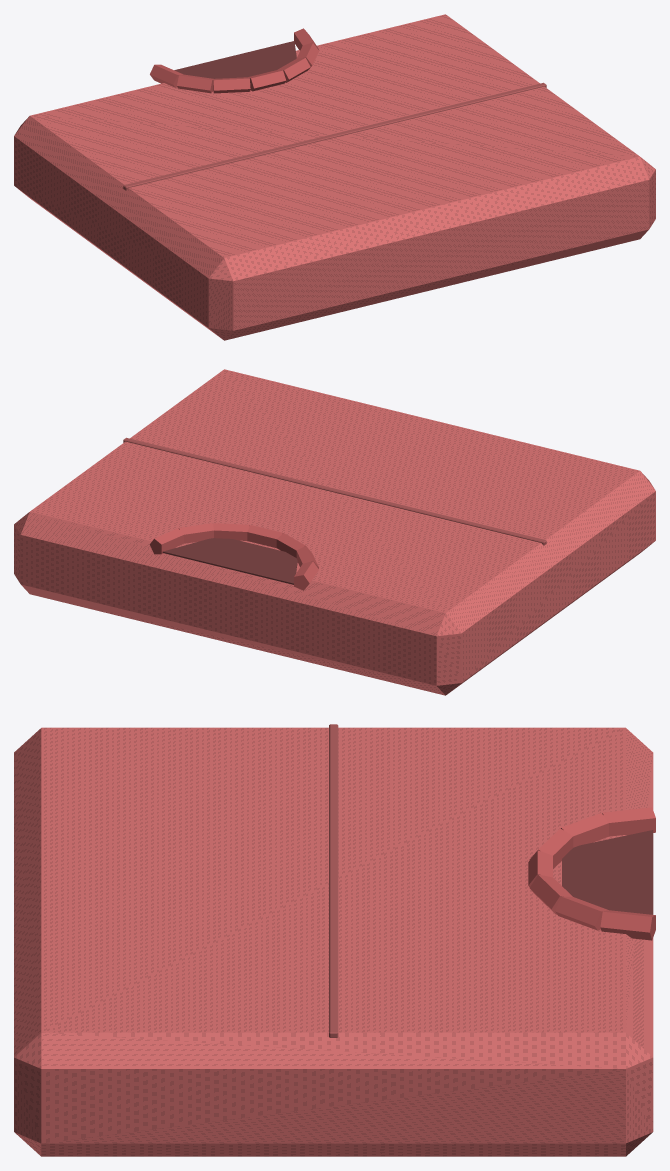
The model's file is sweatshirt.glb.
3 renders of one model, top to bottom at view 1: azimuth 30°, elevation 25°; view 2: azimuth 150°, elevation 25°; view 3: azimuth 270°, elevation 25°, orthographic. The views are drawn at different scales.
Visible parts, largest first — view 1: block_body, block_neckhole, block_fold, block_neck4, block_neck5, block_neck3, block_neck6; view 2: block_body, block_neckhole, block_fold, block_neck0, block_neck2, block_neck3, block_neck1; view 3: block_body, block_neckhole, block_fold, block_neck0, block_neck6, block_neck1, block_neck5, block_neck2, block_neck4, block_neck3.
Boxes of the visible parts, x1=… form: block_body: x1=14, y1=14, x2=655, y2=340; block_neckhole: x1=174, y1=41, x2=296, y2=78; block_fold: x1=123, y1=82, x2=546, y2=190; block_neck4: x1=213, y1=77, x2=250, y2=93; block_neck5: x1=177, y1=74, x2=213, y2=93; block_neck3: x1=248, y1=70, x2=286, y2=91; block_neck6: x1=150, y1=64, x2=183, y2=87; block_body: x1=14, y1=369, x2=655, y2=695; block_neckhole: x1=162, y1=538, x2=297, y2=584; block_fold: x1=123, y1=437, x2=546, y2=545; block_neck0: x1=149, y1=528, x2=183, y2=554; block_neck2: x1=213, y1=523, x2=249, y2=540; block_neck3: x1=247, y1=525, x2=283, y2=547; block_neck1: x1=178, y1=523, x2=213, y2=543; block_body: x1=14, y1=727, x2=653, y2=1156; block_neckhole: x1=562, y1=830, x2=653, y2=914; block_fold: x1=329, y1=724, x2=338, y2=1037; block_neck0: x1=600, y1=910, x2=655, y2=940; block_neck6: x1=602, y1=807, x2=655, y2=836; block_neck1: x1=555, y1=896, x2=608, y2=930; block_neck5: x1=561, y1=813, x2=608, y2=847; block_neck2: x1=529, y1=874, x2=572, y2=914; block_neck4: x1=529, y1=828, x2=573, y2=868; block_neck3: x1=528, y1=850, x2=552, y2=887.
Size of the model in its own units: 0.34 by 0.0687 by 0.2812.
Materials: 1 (1 with a texture image).
